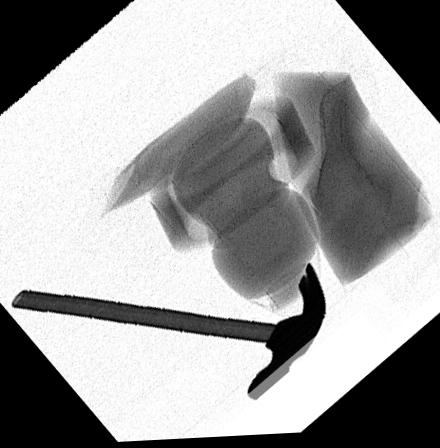Hammer: (10, 264, 327, 406)
